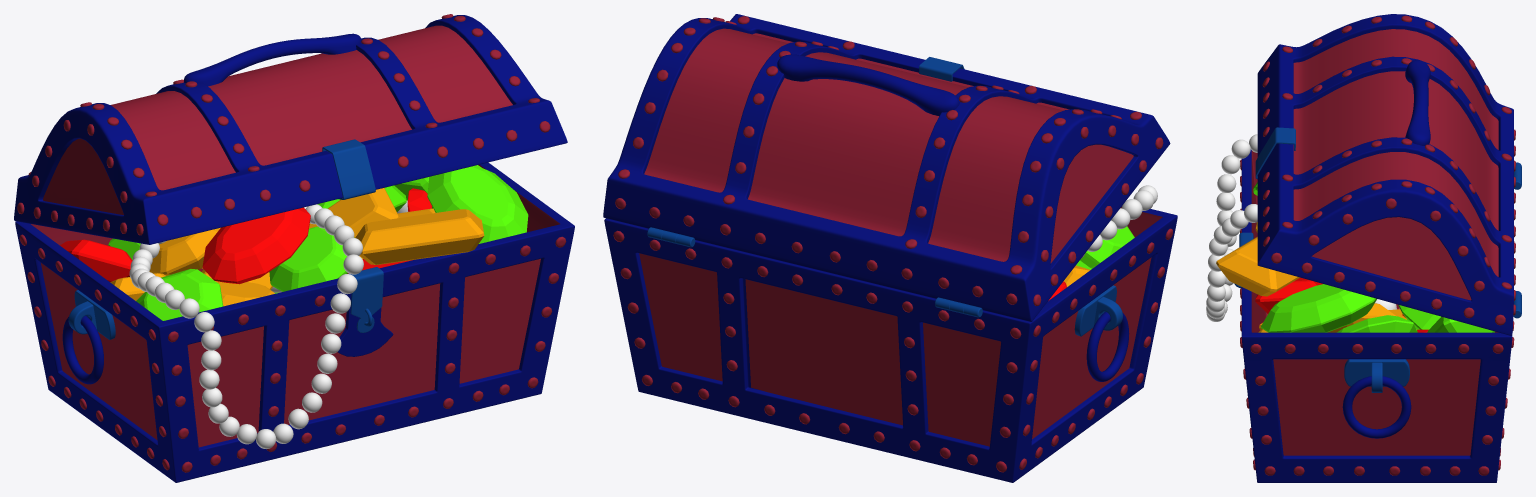
File: asset.glb
The picture shows the model from 3 angles, left to right: view 1: azimuth 30°, elevation 25°; view 2: azimuth 150°, elevation 25°; view 3: azimuth 270°, elevation 25°; orthographic projection. The views are drawn at different scales.
Parts seen in each view (by area): view 1: 13019_aquarium_treasure_chest_v1_L2; view 2: 13019_aquarium_treasure_chest_v1_L2; view 3: 13019_aquarium_treasure_chest_v1_L2.
Boxes of the visible parts, left/top/right/bottom form: 13019_aquarium_treasure_chest_v1_L2: left=14, top=14, right=574, bottom=482; 13019_aquarium_treasure_chest_v1_L2: left=603, top=14, right=1177, bottom=482; 13019_aquarium_treasure_chest_v1_L2: left=1206, top=14, right=1521, bottom=482.
Size of the model in its own units: 14.7 by 10.43 by 9.57.
